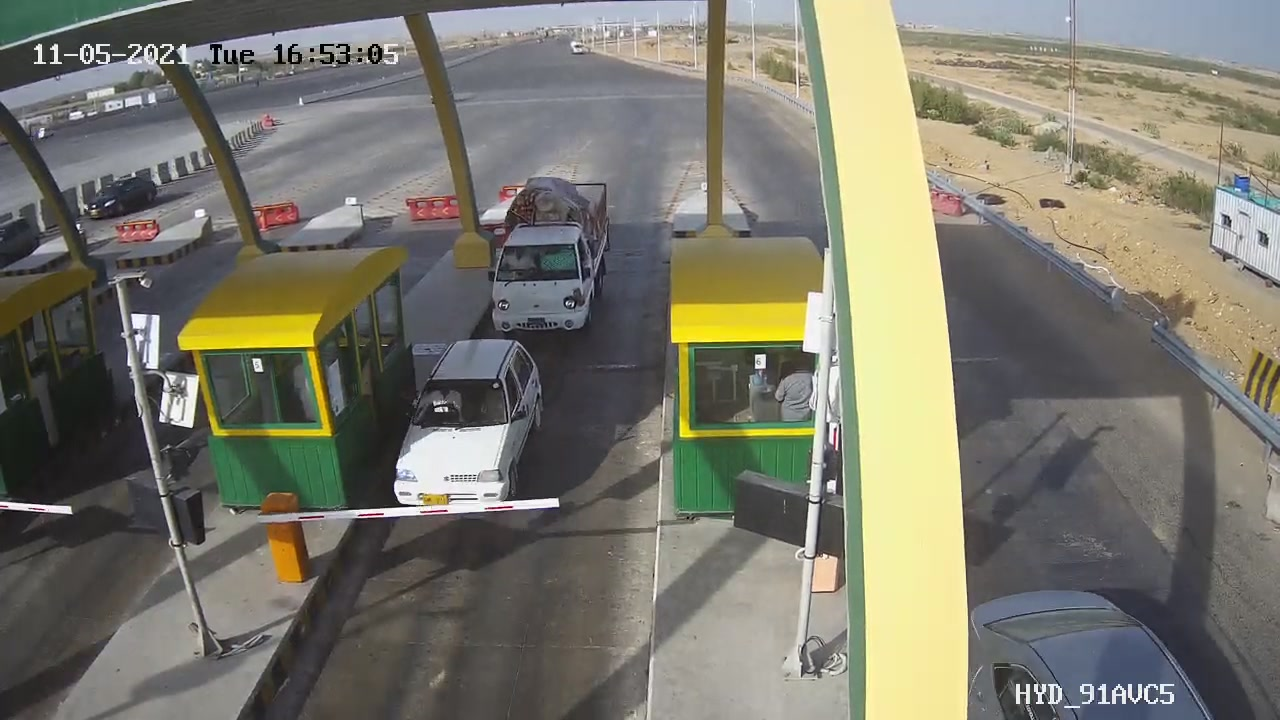F1: (378, 325, 566, 532)
F2: (482, 172, 625, 336)
